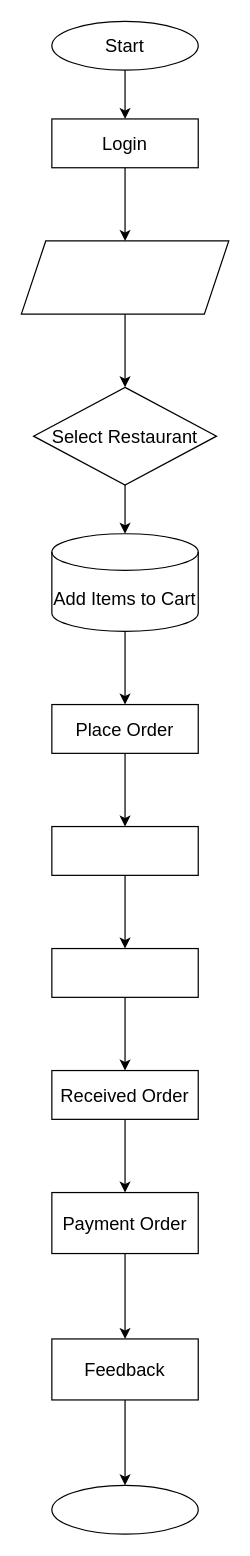
Some shapes in this 250 by 1556 pixel diagram are drawn without their labels. Each missing label, with the box of its shape:
Browse Restaurants: (20, 240, 229, 314)
Confirm Order: (51, 825, 198, 875)
End: (51, 1484, 198, 1534)
Tracking Order: (51, 947, 198, 997)
